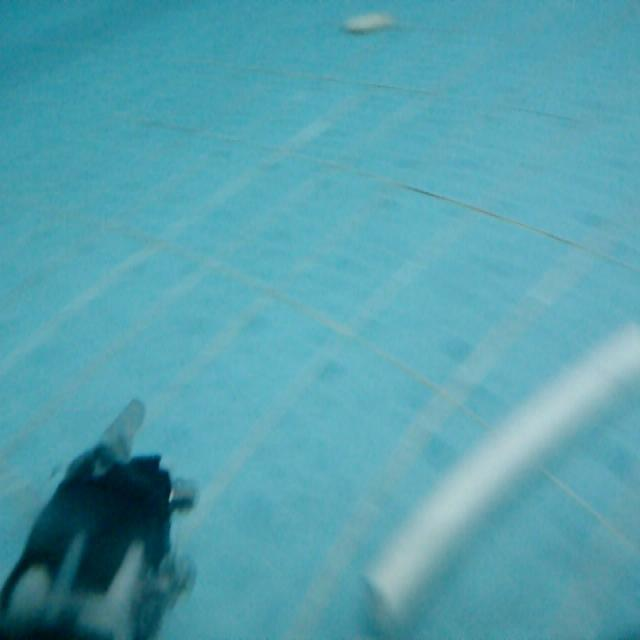Cube: (364, 319, 640, 630)
